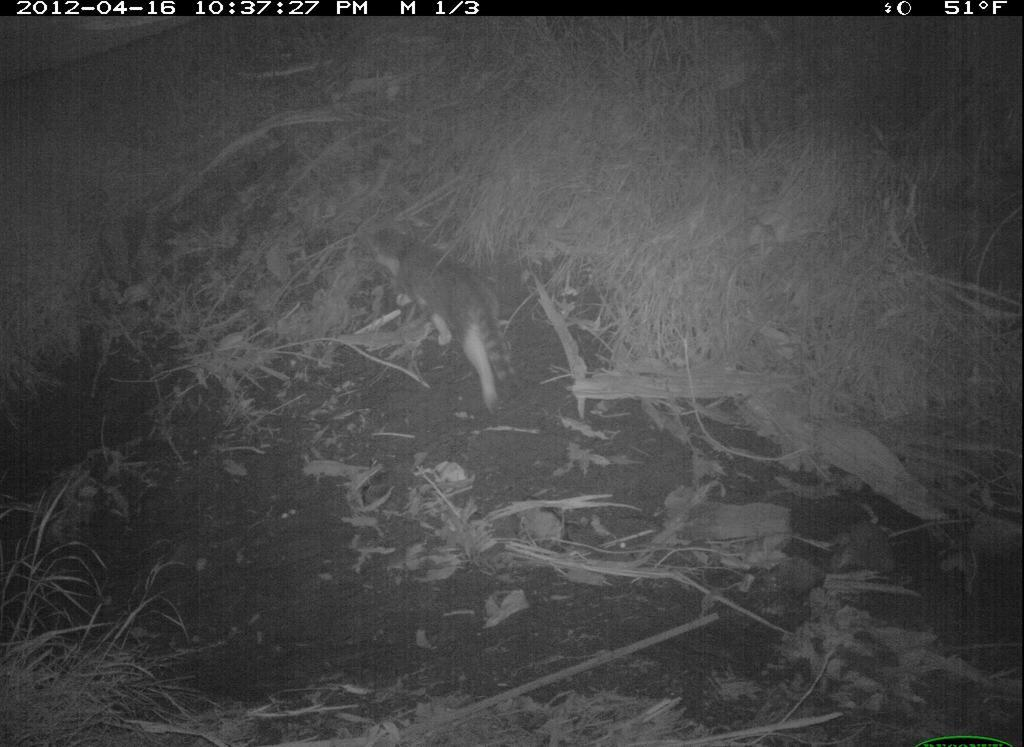cat: (360, 216, 529, 419)
